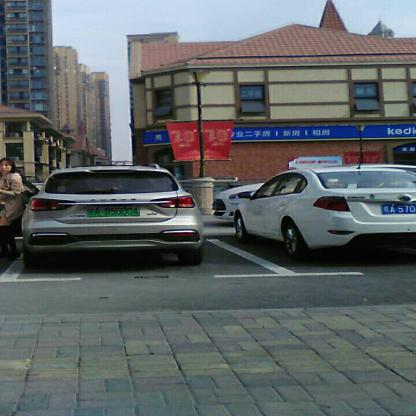lp: (86, 206, 142, 216)
